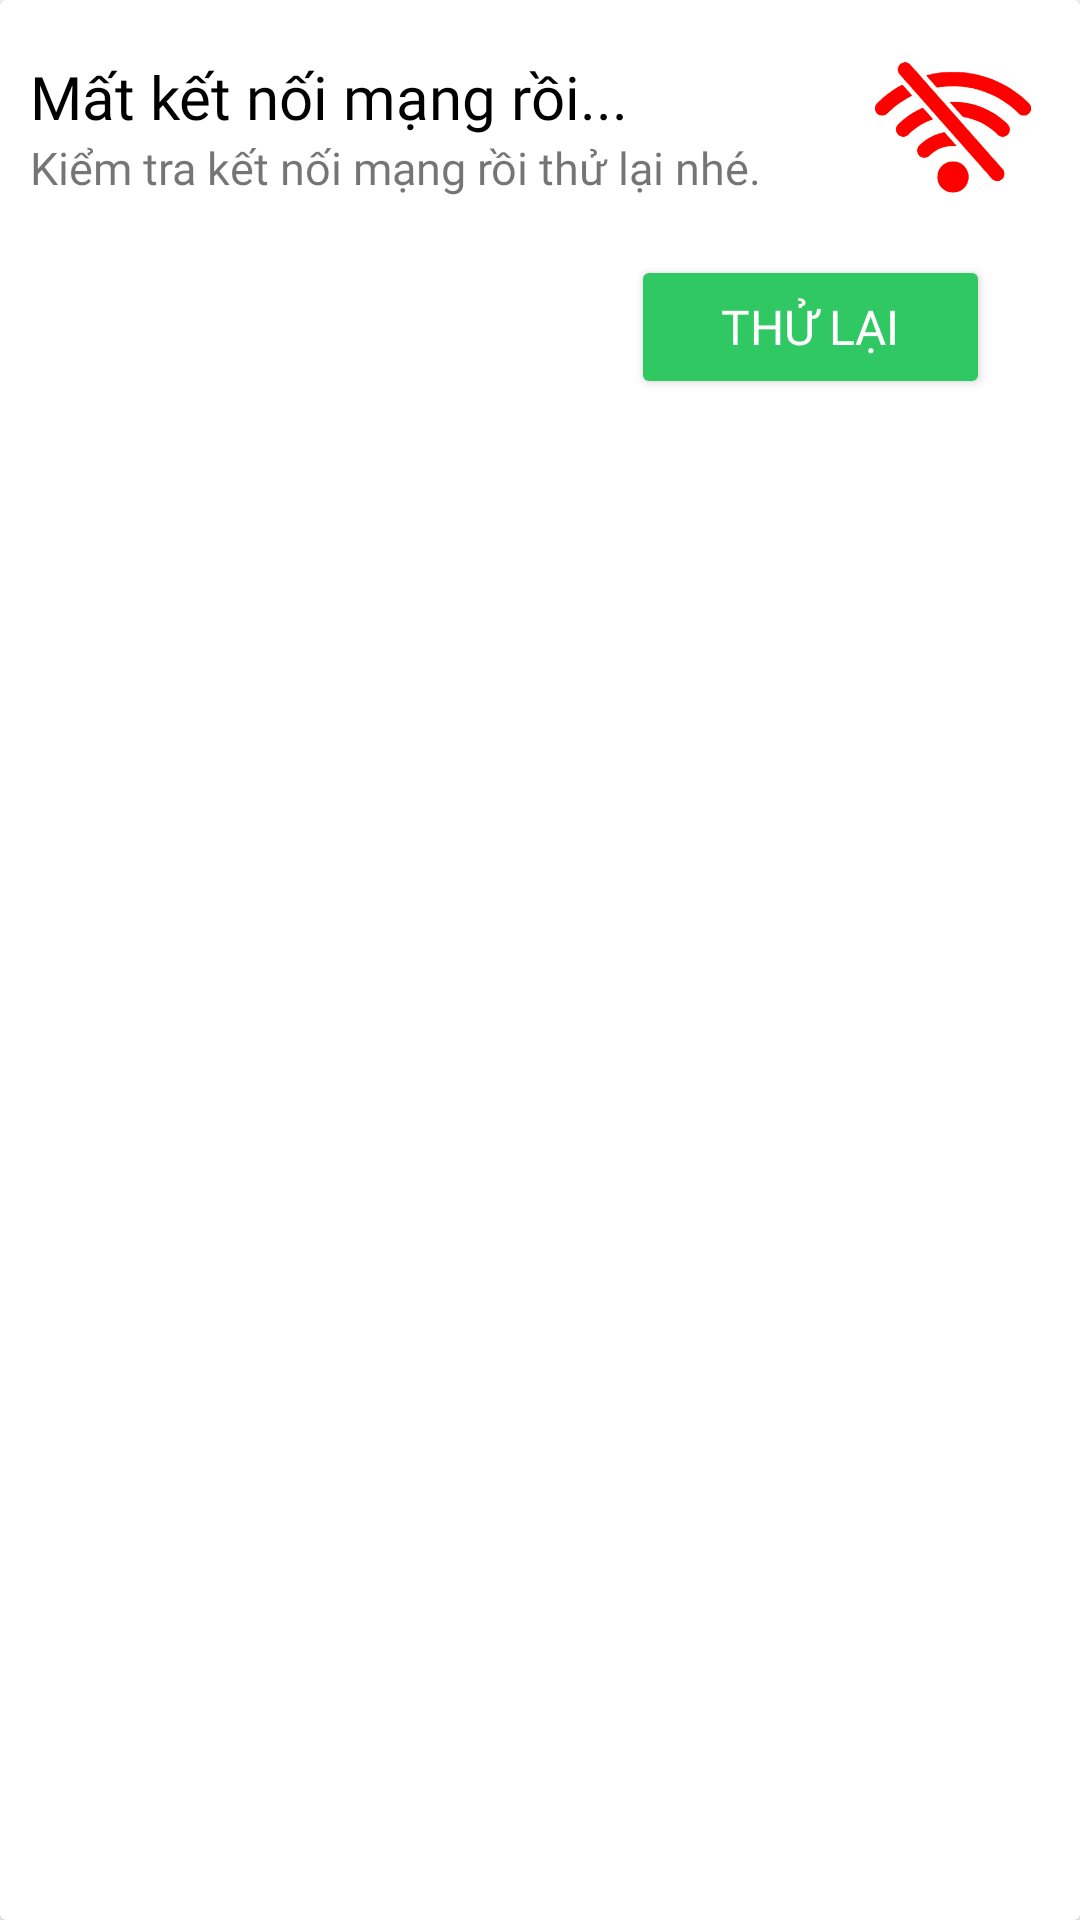

Locate icon controls on the screen. Image size 1080x1920, boxes as box(x1, y1, x2, y2).
lost connection: box(875, 62, 1031, 193)
